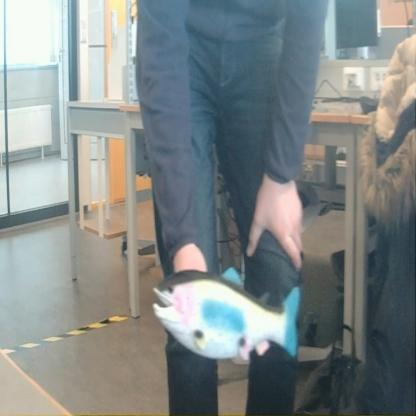rubberfish: (149, 261, 304, 366)
